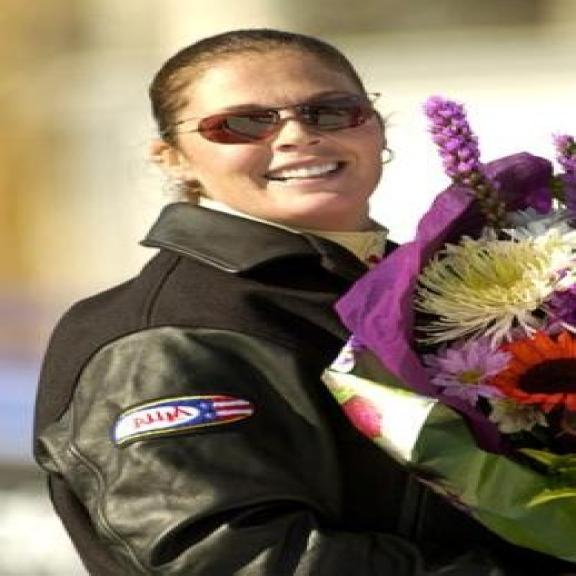face: (136, 47, 408, 227)
